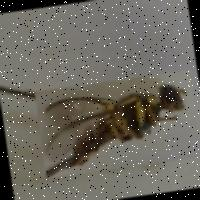Oriental-fruit-fly: (33, 69, 200, 178)
